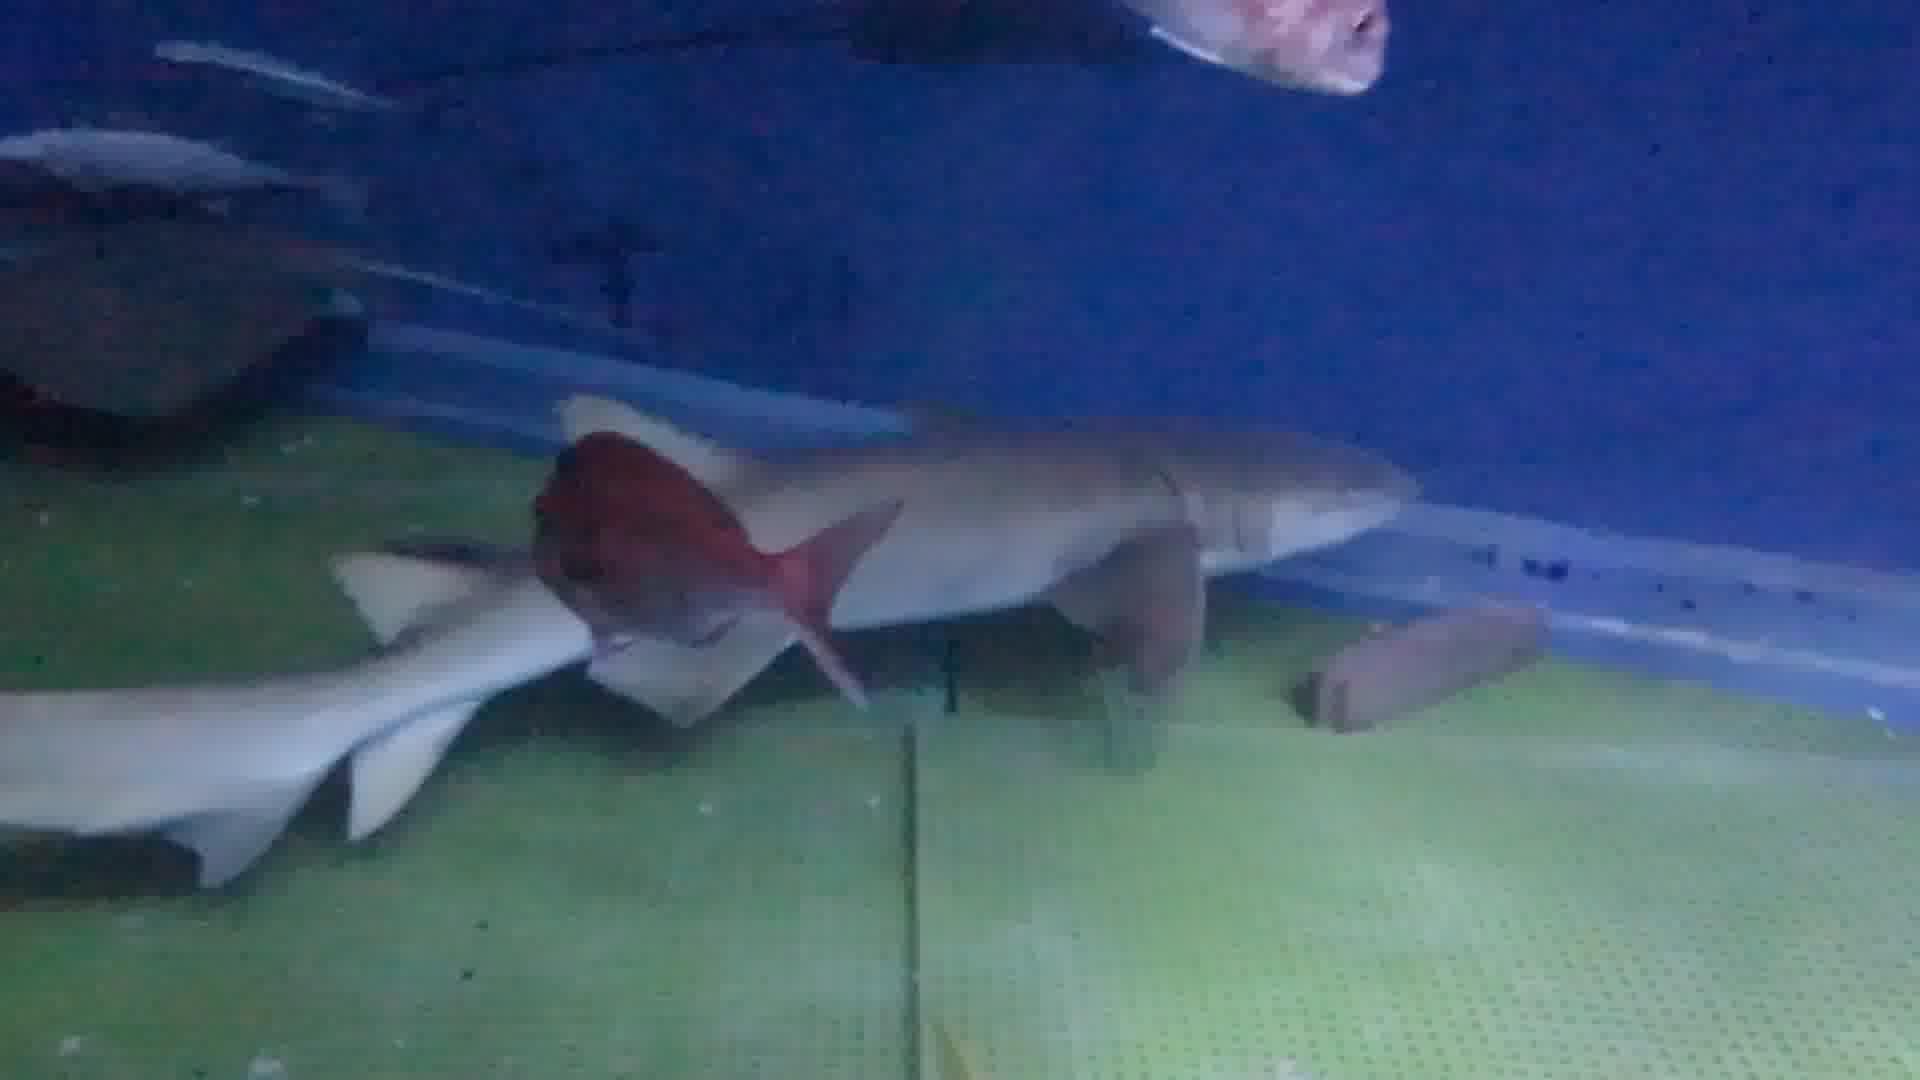Nebrius ferrugineus: (704, 375, 1429, 676)
